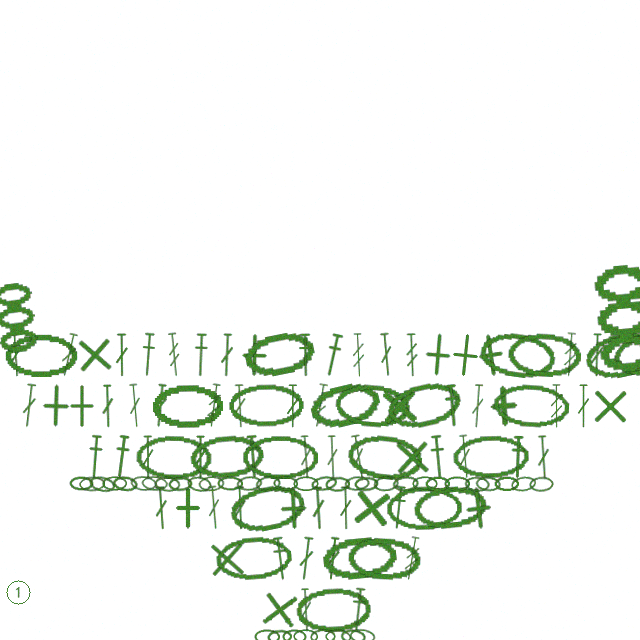chain: (383, 376, 466, 435), (305, 376, 386, 435), (226, 479, 308, 537), (240, 326, 320, 383), (477, 328, 559, 382), (345, 431, 424, 483), (411, 482, 490, 533), (320, 533, 398, 584), (333, 381, 411, 431), (214, 534, 293, 583), (188, 432, 265, 482), (492, 382, 570, 430), (346, 535, 423, 583), (135, 434, 213, 480), (295, 586, 371, 633), (506, 331, 582, 378), (452, 434, 529, 480), (581, 325, 640, 384), (386, 485, 463, 530), (228, 383, 305, 428), (242, 435, 318, 479), (151, 383, 225, 428), (4, 333, 79, 377), (611, 329, 640, 381), (88, 474, 116, 494), (310, 474, 338, 493), (186, 475, 213, 493), (510, 475, 537, 493), (130, 475, 157, 492), (141, 475, 168, 492), (198, 475, 225, 492), (236, 475, 263, 492), (392, 475, 419, 492), (112, 475, 138, 492), (255, 475, 281, 492), (344, 475, 370, 492), (373, 475, 399, 492), (154, 476, 181, 492), (79, 476, 105, 492), (464, 476, 490, 492), (475, 476, 501, 492), (168, 476, 193, 492), (325, 476, 350, 492), (354, 476, 379, 492), (529, 476, 554, 492), (217, 476, 243, 491), (293, 476, 319, 491), (412, 476, 438, 491), (444, 476, 470, 491), (69, 476, 94, 491), (102, 476, 127, 491), (273, 476, 298, 491), (425, 476, 450, 491), (494, 476, 519, 491), (349, 628, 376, 640), (340, 628, 366, 640), (254, 629, 280, 640), (310, 629, 336, 640), (325, 629, 351, 640), (267, 629, 292, 640), (282, 629, 307, 640), (293, 629, 318, 640)
double: (57, 332, 81, 378), (348, 434, 369, 479), (296, 536, 316, 581), (19, 383, 39, 428), (151, 383, 170, 428), (324, 536, 342, 581), (205, 485, 223, 530), (456, 434, 474, 479), (126, 383, 144, 428), (377, 332, 395, 377), (152, 486, 170, 530), (310, 486, 327, 530), (535, 435, 552, 479), (469, 384, 486, 428), (7, 333, 24, 377), (298, 588, 314, 632), (232, 486, 248, 530), (298, 435, 314, 479), (232, 384, 248, 428), (219, 333, 235, 377), (589, 333, 605, 377), (338, 486, 353, 530), (193, 435, 208, 479), (325, 435, 340, 479), (100, 384, 115, 428), (285, 384, 300, 428), (576, 384, 591, 428), (114, 333, 129, 377), (141, 435, 155, 479)
enseble_chain: (585, 260, 640, 380), (0, 279, 44, 361)
half_double: (320, 332, 346, 378), (269, 536, 291, 581), (111, 434, 133, 479), (348, 587, 369, 632), (388, 485, 409, 530), (85, 434, 105, 479), (243, 434, 263, 479), (428, 434, 448, 479), (442, 383, 462, 428), (138, 332, 158, 377), (509, 435, 527, 479), (192, 333, 210, 377), (297, 333, 314, 377)
noise: (4, 578, 32, 606)
single: (466, 330, 516, 380), (255, 585, 304, 634), (347, 483, 396, 532), (454, 484, 502, 532), (441, 331, 489, 379), (71, 331, 118, 378), (414, 331, 461, 378), (204, 536, 250, 582), (270, 485, 316, 531), (389, 434, 435, 480), (376, 383, 422, 429), (481, 383, 527, 429), (33, 383, 78, 428), (166, 486, 210, 530), (60, 384, 104, 428), (588, 384, 632, 428), (232, 333, 276, 377)
treble: (401, 536, 423, 581), (309, 383, 331, 428), (204, 383, 224, 428), (165, 332, 183, 377), (561, 332, 579, 377), (350, 333, 367, 377), (404, 333, 420, 377), (549, 384, 564, 428)
